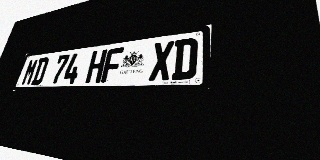4: (62, 52, 83, 84)
7: (50, 54, 70, 84)
D: (171, 37, 198, 80), (30, 57, 50, 85)
F: (101, 47, 124, 83)
H: (85, 49, 108, 83)
M: (21, 58, 39, 85)
X: (148, 40, 174, 81)
